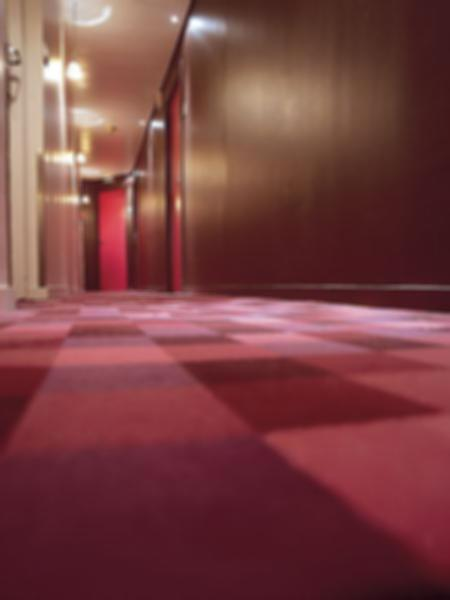Puerta: (0, 6, 22, 294), (161, 92, 186, 293), (93, 183, 126, 291)
